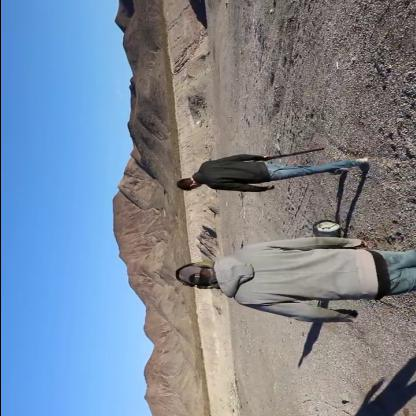long weapon: (245, 147, 329, 165)
